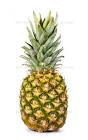Pineapple: (21, 9, 70, 134)
